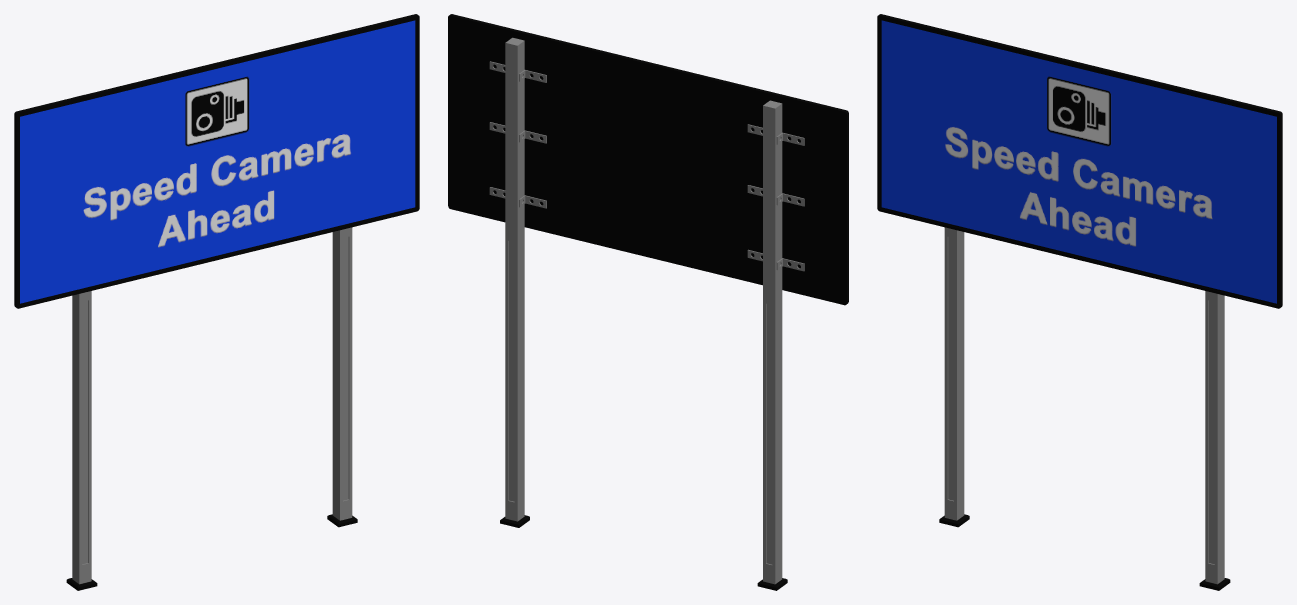
The model's file is grand panneau.fbx.
3 renders of one model, left to right at view 1: azimuth 30°, elevation 25°; view 2: azimuth 150°, elevation 25°; view 3: azimuth 330°, elevation 25°, orthographic.
Visible parts, largest first — view 1: signRender:sign, signRender:pCube2 (×2); view 2: signRender:sign, signRender:pCube2 (×2); view 3: signRender:sign, signRender:pCube2 (×2).
Part boxes in pixels (x1,y1,x2,y2): signRender:sign: (14, 14, 419, 308); signRender:pCube2 (×2): (66, 31, 357, 590); signRender:sign: (448, 14, 848, 305); signRender:pCube2 (×2): (500, 37, 787, 590); signRender:sign: (877, 14, 1282, 308); signRender:pCube2 (×2): (939, 31, 1230, 590).
Size of the model in its own units: 7.92 by 9.24 by 0.382.
3 materials, 1 textured.
